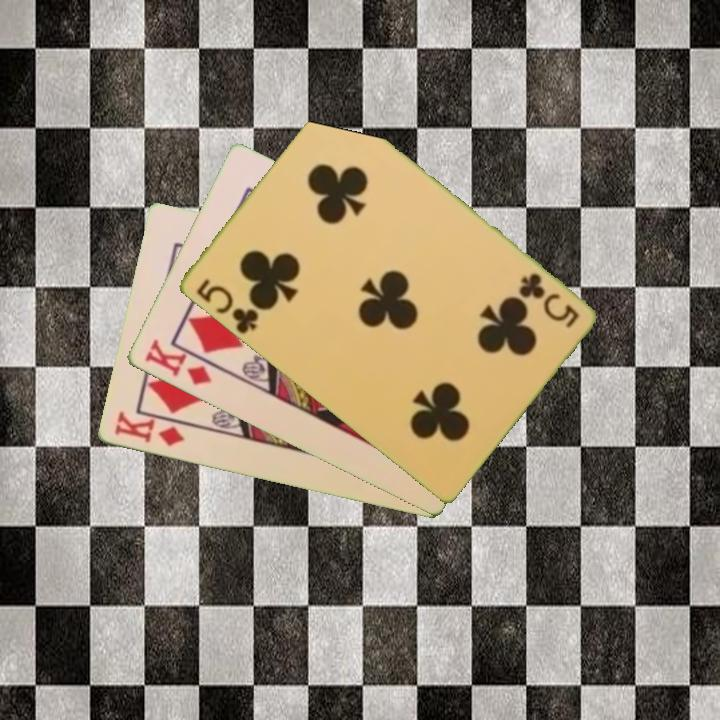5c: (192, 275, 263, 338), (514, 269, 582, 331)
Kd: (140, 336, 223, 389), (110, 408, 188, 450)
